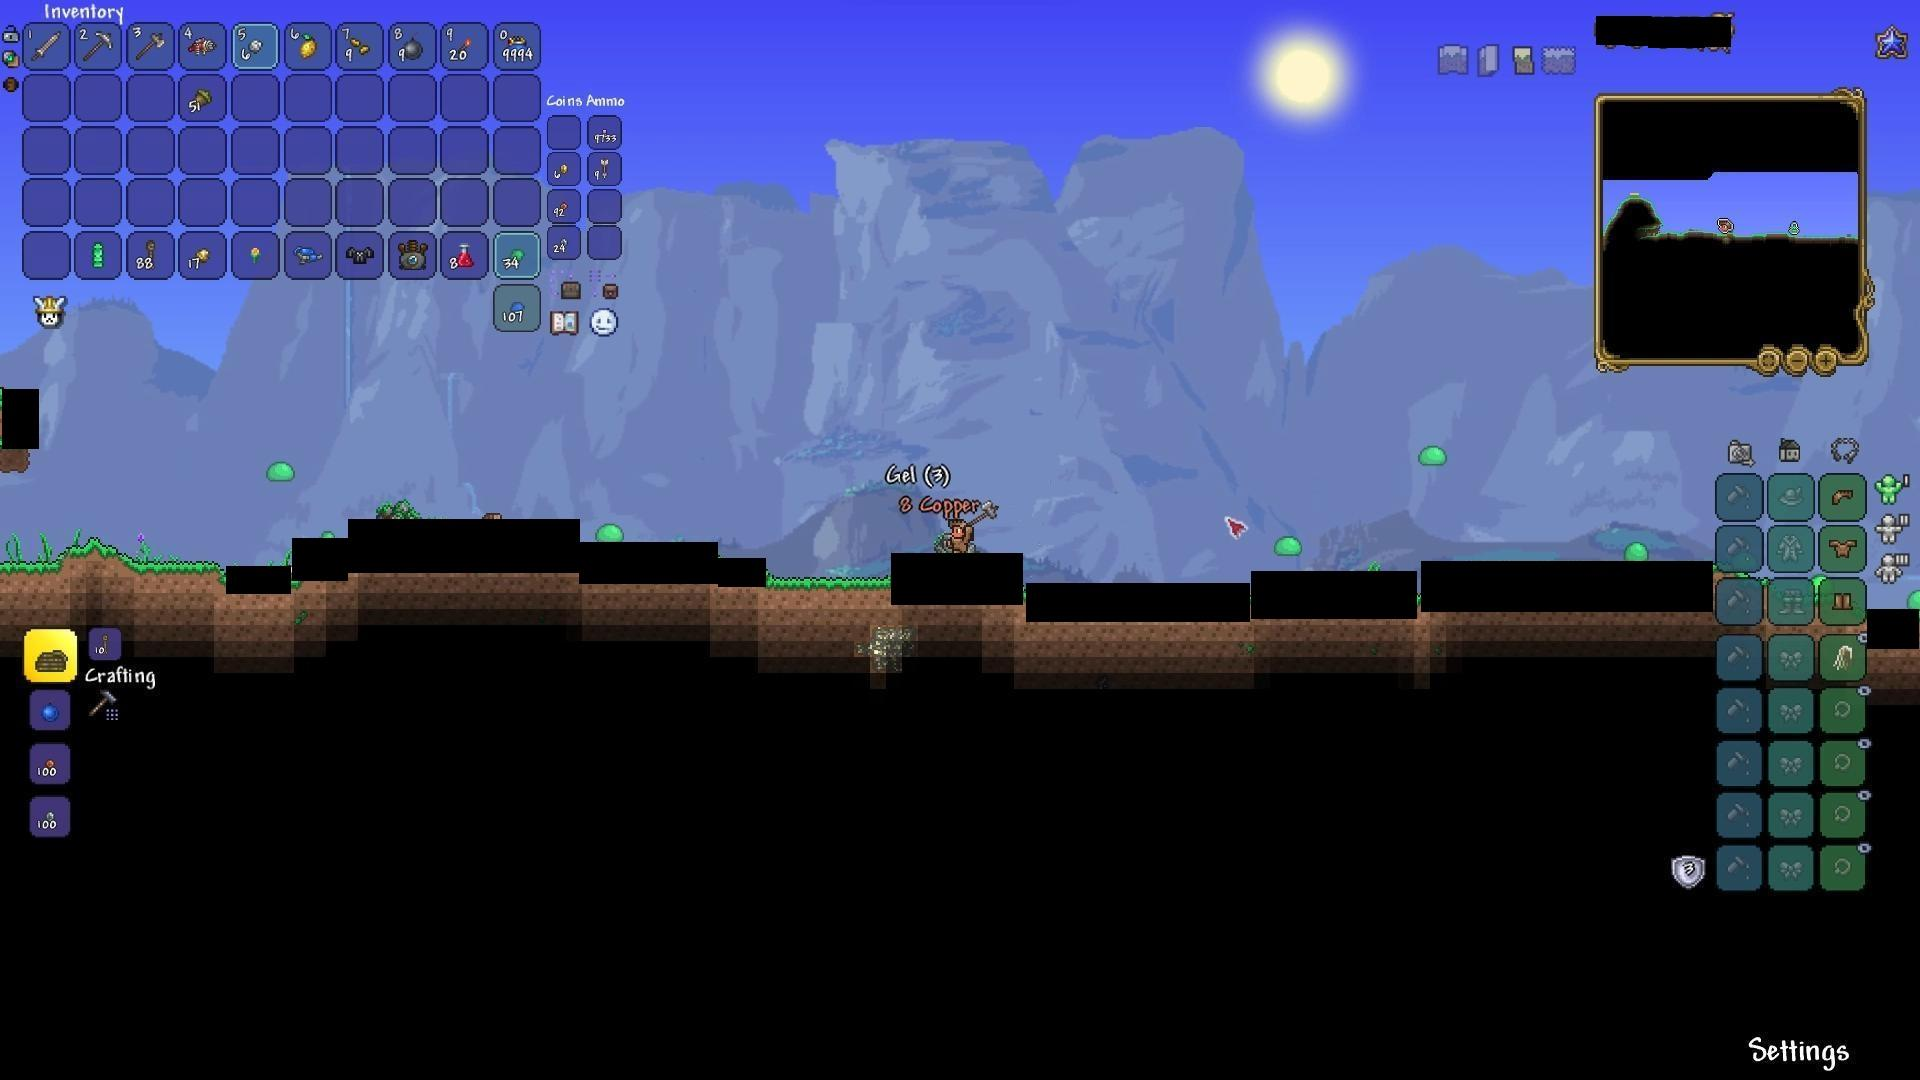breastplate: (1829, 535, 1859, 556)
dirt: (3, 537, 133, 572), (767, 568, 887, 601), (135, 556, 220, 583)
helmet: (1826, 483, 1858, 510)
legs: (1832, 585, 1855, 615)
slime: (1270, 533, 1303, 560), (593, 521, 626, 546), (1418, 443, 1448, 468), (265, 460, 295, 484), (1625, 539, 1651, 564), (1903, 589, 1920, 615)
